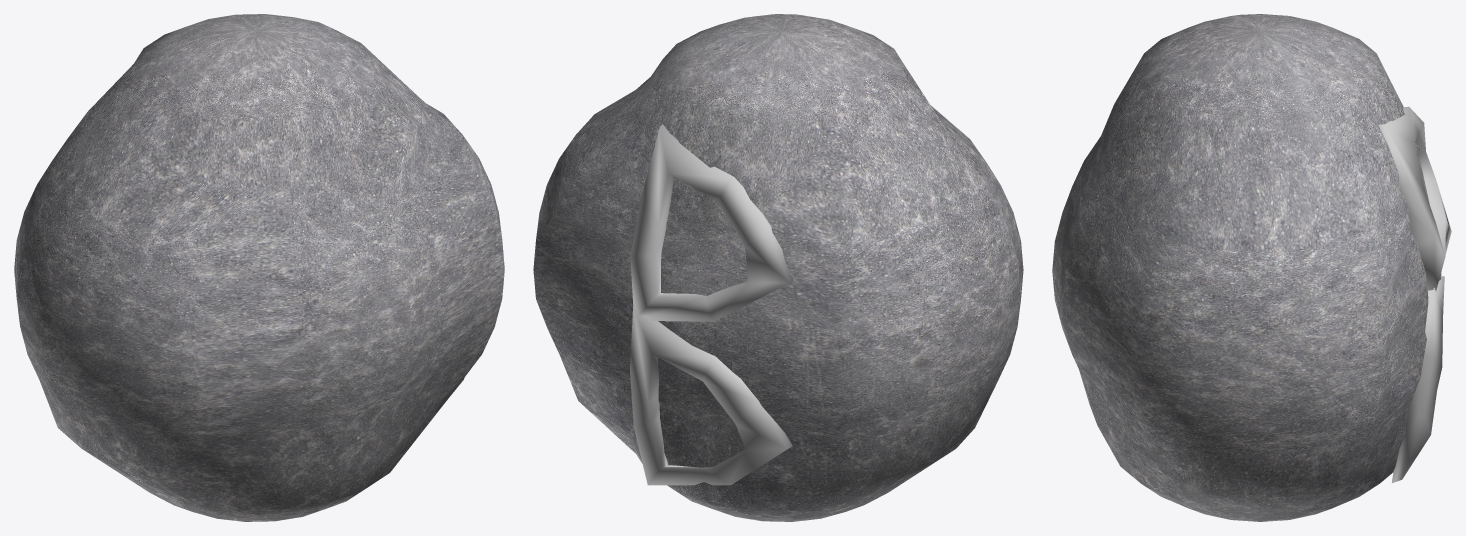
Rendered from Rune.obj.
The picture shows the model from 3 angles, left to right: view 1: azimuth 30°, elevation 25°; view 2: azimuth 150°, elevation 25°; view 3: azimuth 270°, elevation 25°; orthographic projection.
Parts seen in each view (by area): view 1: pSphere2; view 2: pSphere2; view 3: pSphere2.
Boxes of the visible parts, bbox=[...] form: pSphere2: bbox=[14, 14, 504, 521]; pSphere2: bbox=[533, 14, 1023, 521]; pSphere2: bbox=[1052, 14, 1451, 521].
Size of the model in its own units: 4.8 by 4.95 by 3.8.
